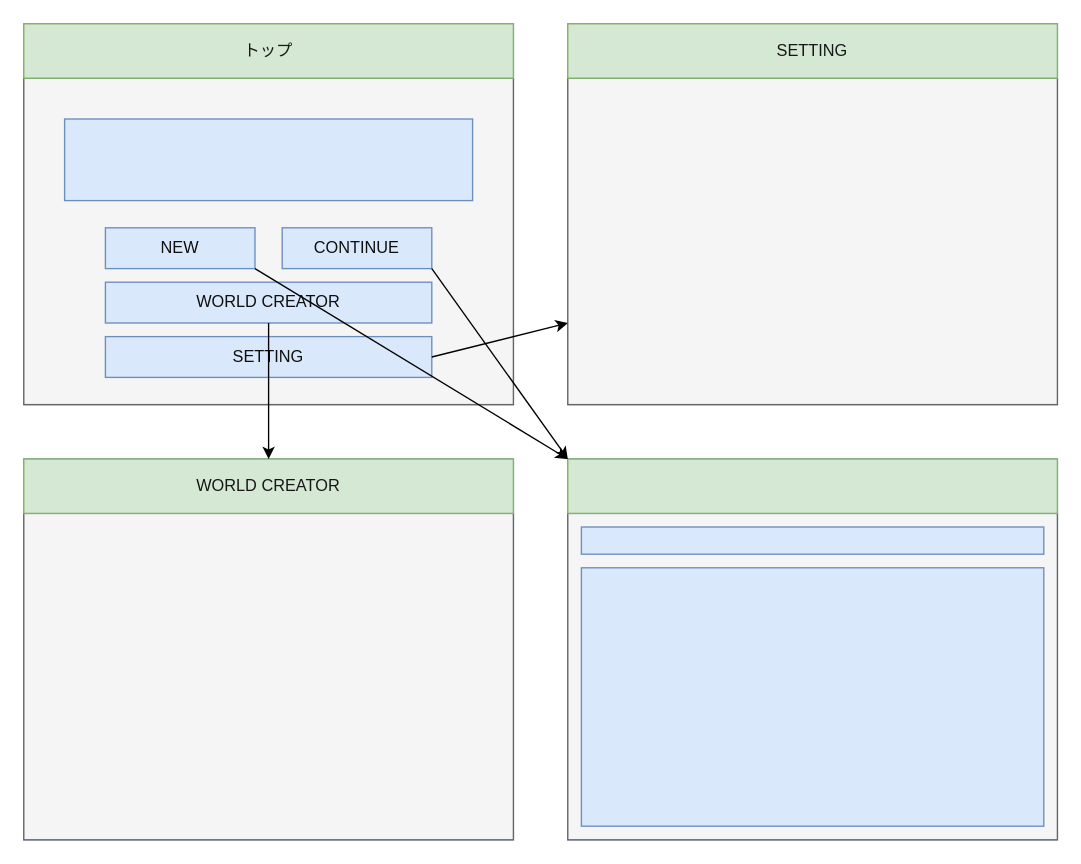
Image size: 1081x864. Some labels were removed from this diagram. The shapes that lost their labels are listed below. From the top down, each one's centre as x and y in pixels, then its label:
At (x=268, y=159): "ロゴ".
At (x=811, y=485): "GAME".
At (x=812, y=540): "各種情報".
At (x=812, y=696): "メイン画面".
